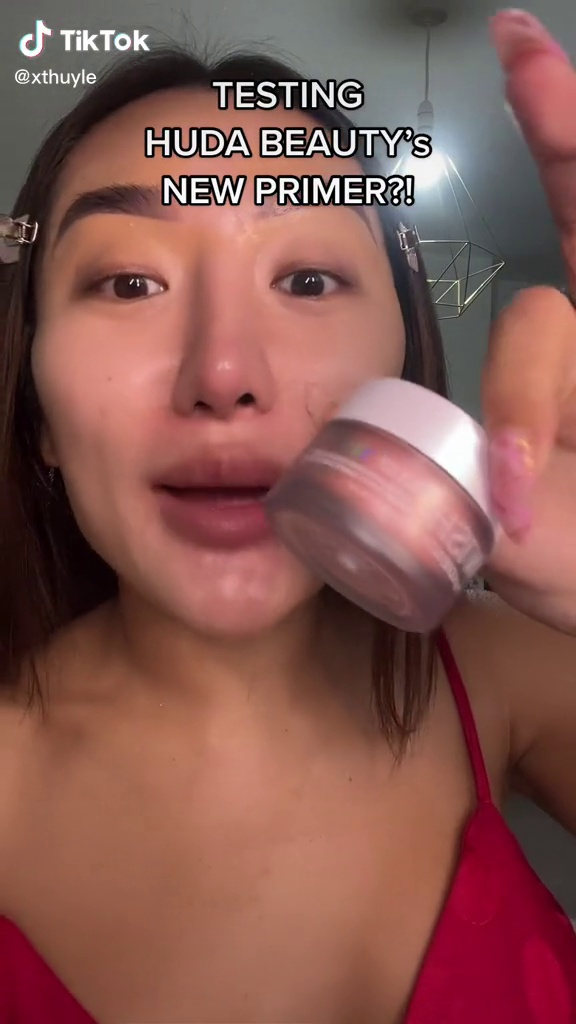train' :'yolo_data/train/images',: (260, 362, 529, 645)
